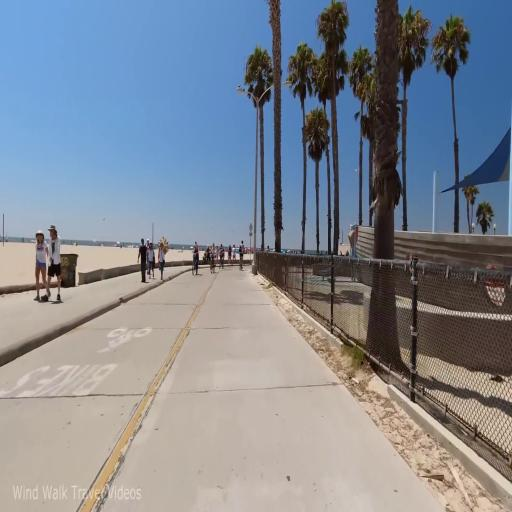Street_Light: (233, 72, 274, 276)
